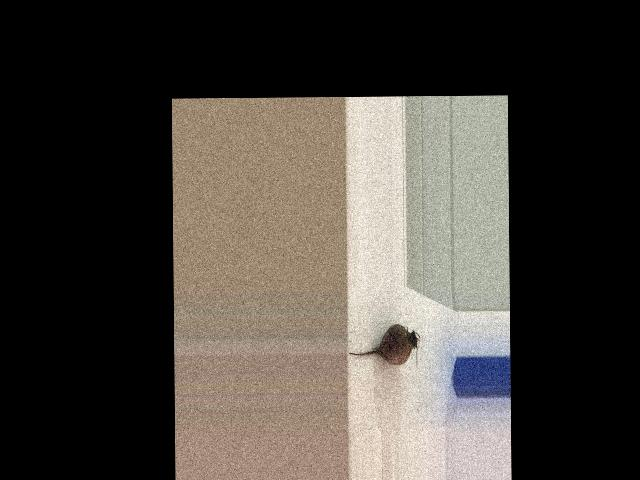beet: (348, 324, 420, 369)
